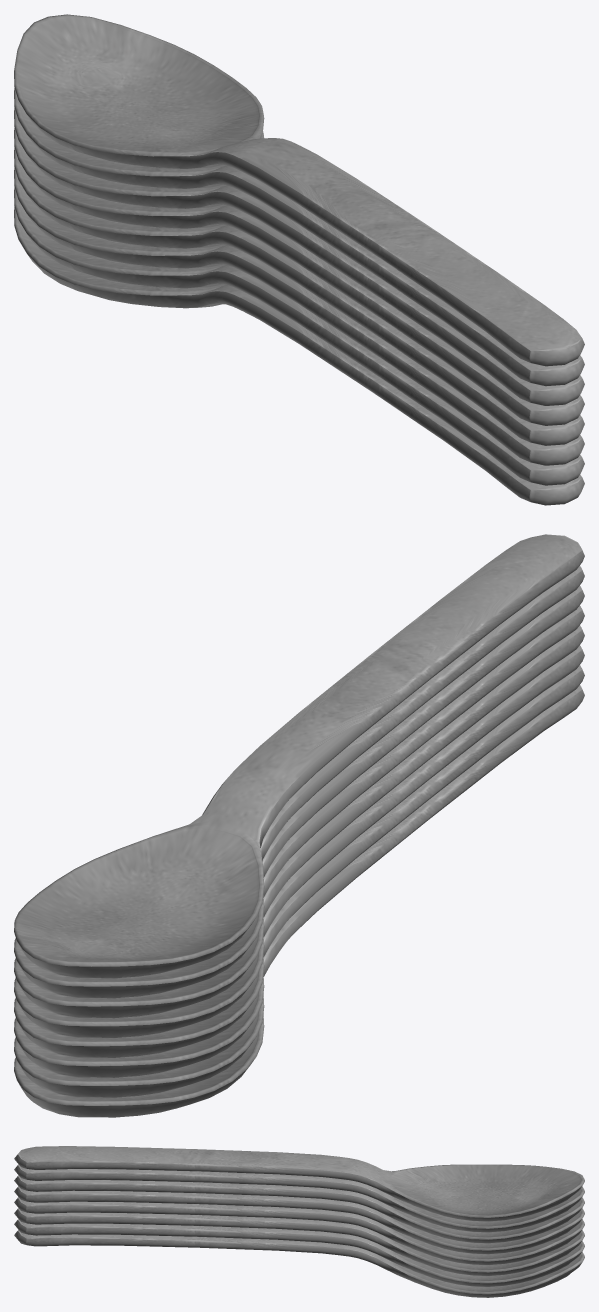
The model's file is SpoonStack.fbx.
3 views of the same model, one above another, from view 1: azimuth 30°, elevation 25°; view 2: azimuth 150°, elevation 25°; view 3: azimuth 270°, elevation 25° (orthographic). The views are drawn at different scales.
Parts seen in each view (by area): view 1: Spoon; view 2: Spoon; view 3: Spoon.
Boxes of the visible parts, box(x1,y1,x2,y2) form: Spoon: box(14, 14, 584, 505); Spoon: box(14, 534, 584, 1117); Spoon: box(14, 1146, 584, 1297).
Bounding box in the file's own units: 3.63 × 4.21 × 16.98.
